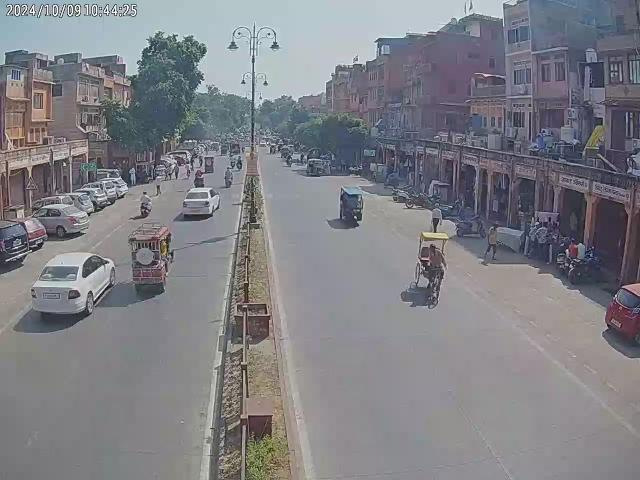auto: (128, 220, 174, 296), (337, 185, 365, 227), (204, 155, 214, 173)
car: (31, 253, 115, 320), (604, 276, 640, 346), (30, 202, 90, 240), (0, 215, 28, 275), (180, 186, 220, 220), (97, 178, 128, 198)
motorbike: (570, 253, 602, 284), (402, 190, 429, 210)
motorbike-rider: (224, 168, 233, 188)
person: (482, 220, 502, 266), (430, 202, 442, 230)
rickshow: (416, 232, 448, 297)
scooty: (456, 212, 486, 238)
scooty-rider: (138, 190, 152, 217)
